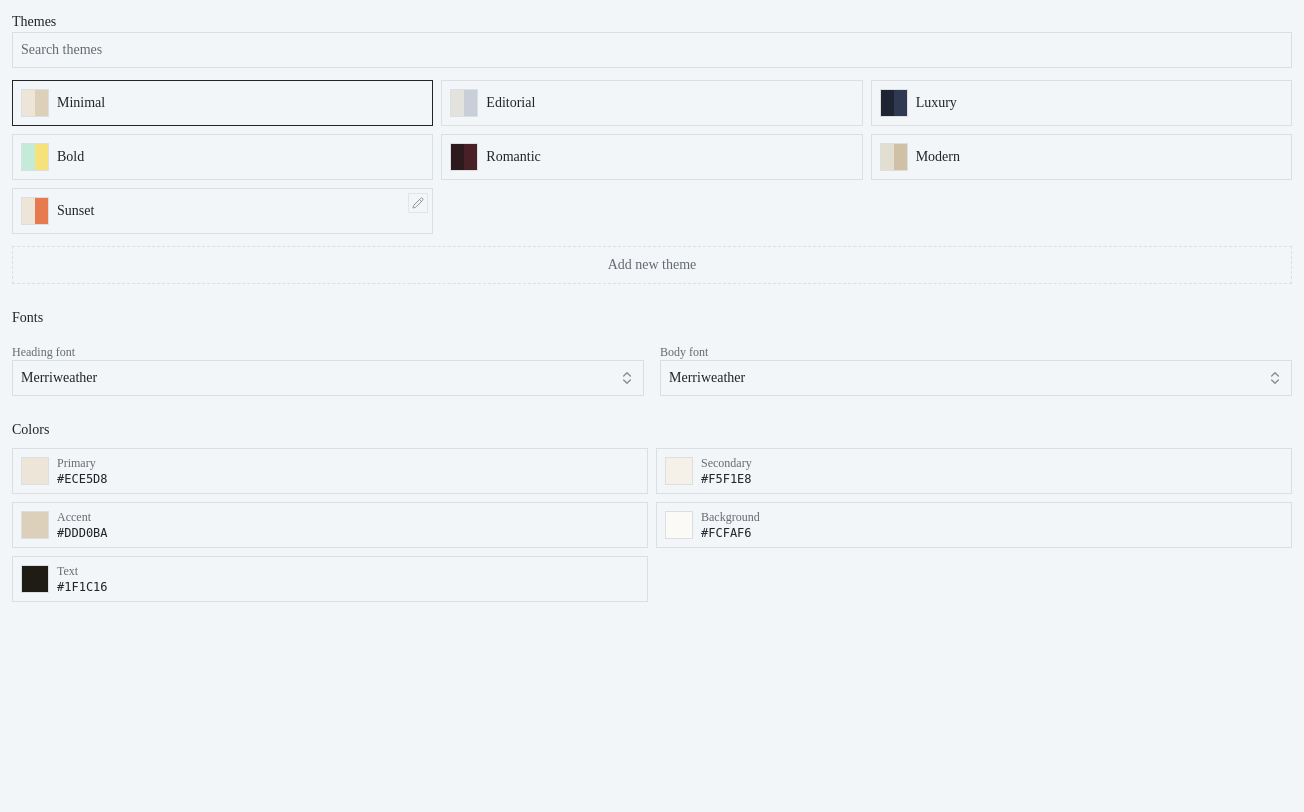
Test: BrandKitPicker › enters edit mode from a saved tile and shows inline name input on the tile
Click the button named "Edit theme: Sunset". click: x=418, y=203
box: [408,193,428,213]
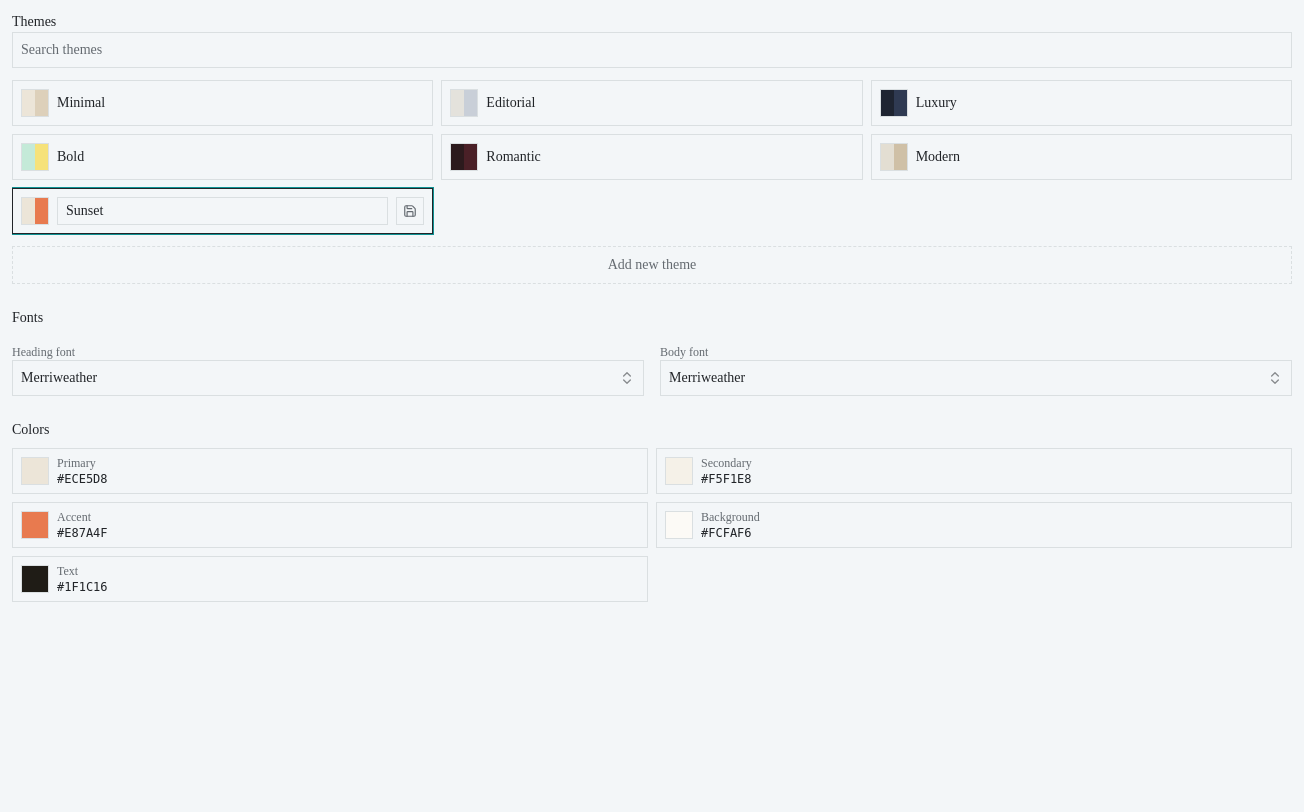
Expected: the field named "Theme name" holds "Sunset", [57,197,388,225]
